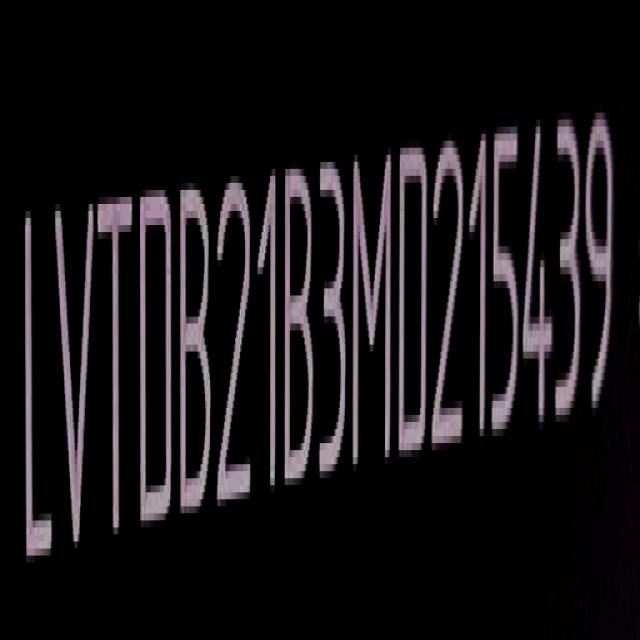1: (258, 176, 282, 512), (469, 125, 487, 462)
2: (217, 177, 255, 523), (432, 137, 468, 466)
3: (318, 153, 349, 493), (552, 112, 582, 442)
4: (522, 121, 552, 449)
5: (493, 115, 523, 446)
9: (588, 116, 619, 432)
B: (180, 182, 217, 535), (284, 162, 320, 502)
D: (136, 183, 174, 545), (398, 141, 432, 475)
L: (16, 193, 51, 584)
M: (352, 146, 393, 481)
T: (101, 184, 137, 558)
V: (50, 193, 97, 571)
